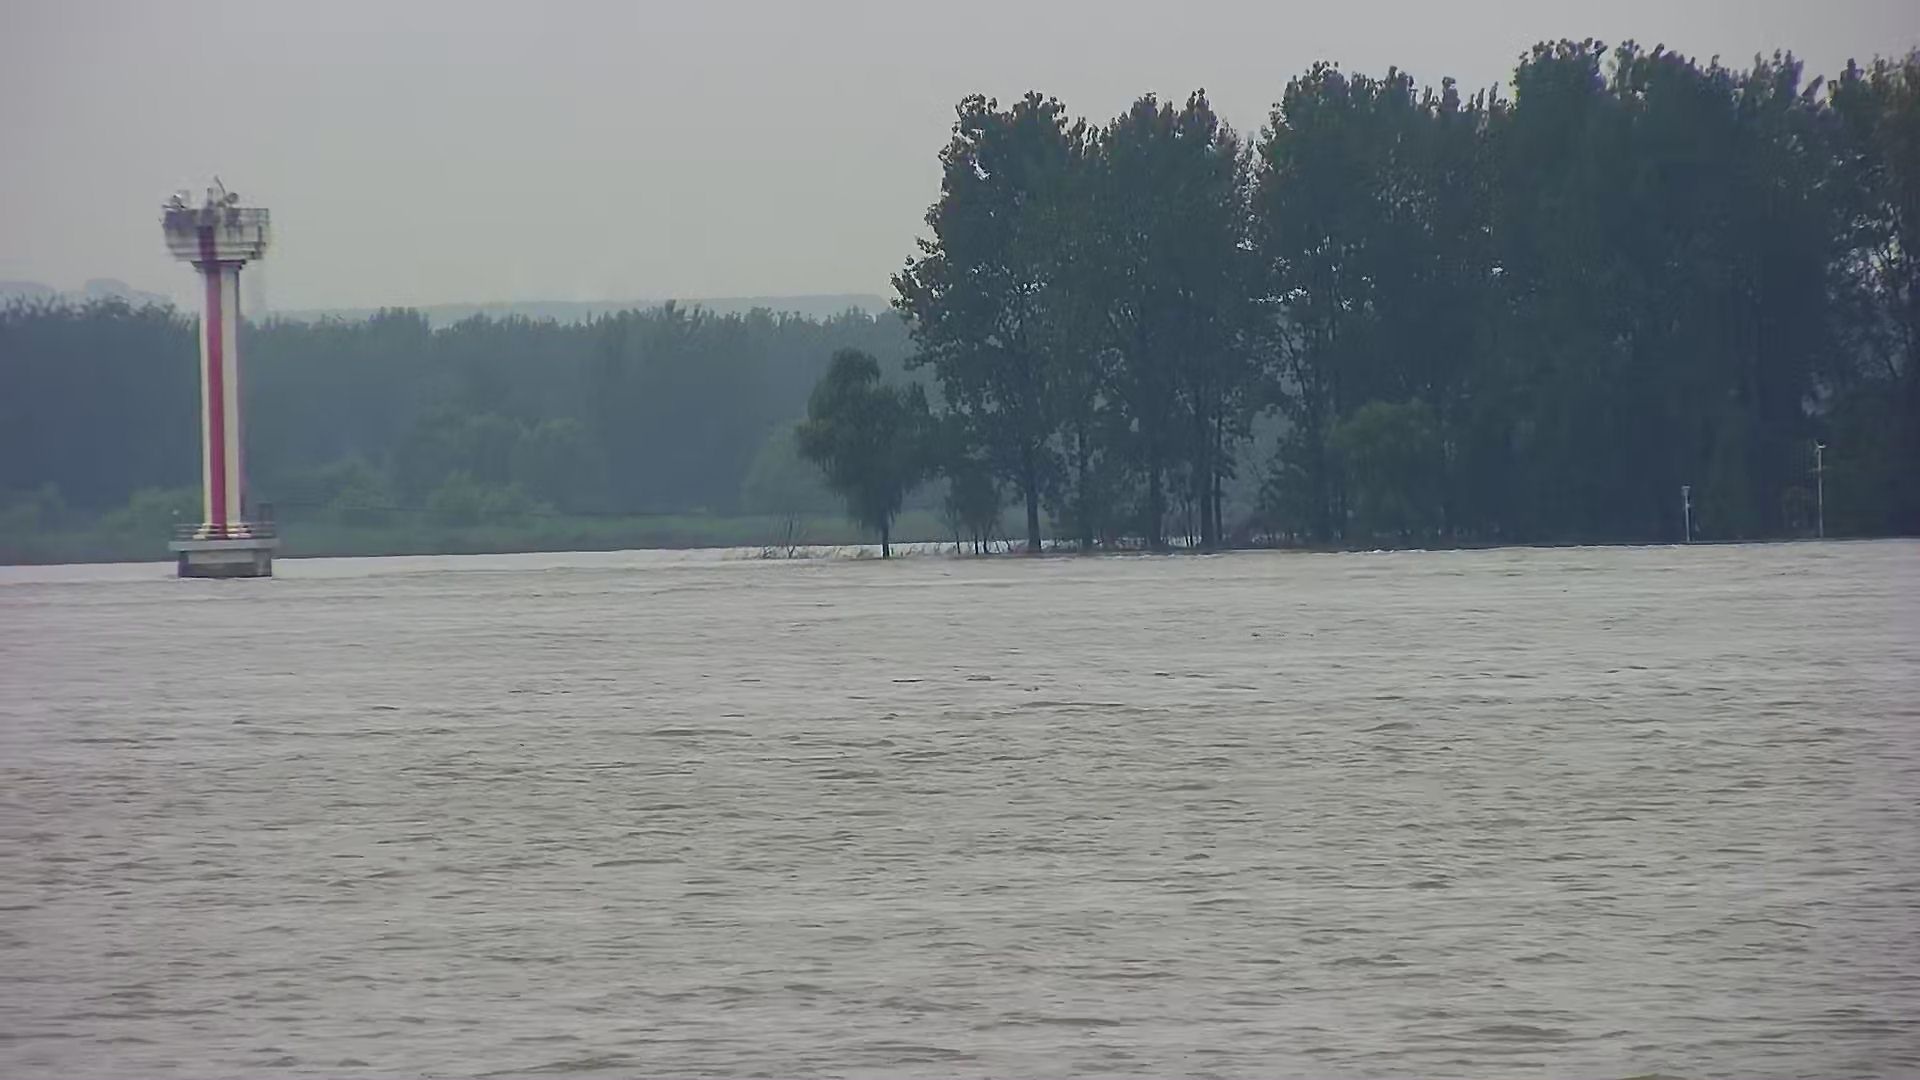platform: (153, 174, 299, 578)
tree: (1478, 33, 1746, 545), (1245, 61, 1513, 559), (1026, 95, 1273, 558), (887, 105, 1112, 554), (1731, 22, 1920, 537), (789, 345, 948, 564)
